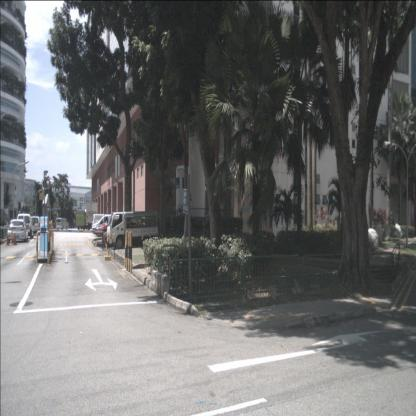cone: (12, 232, 18, 245), (5, 232, 10, 246)
